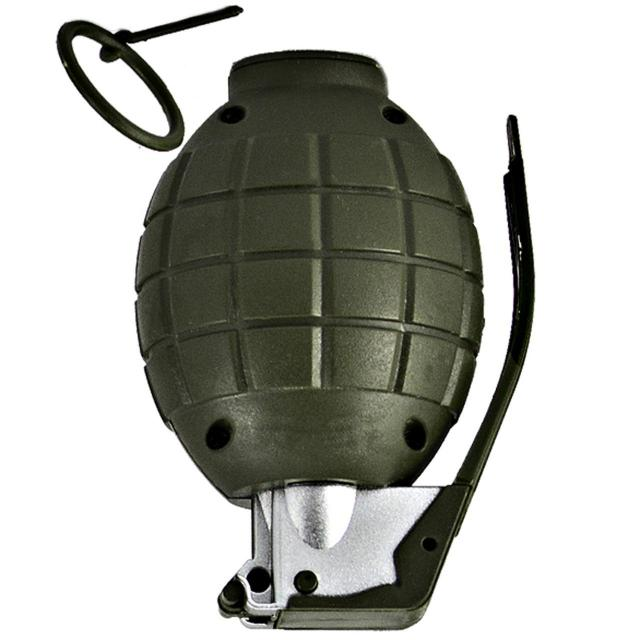grenade: (135, 49, 539, 633)
